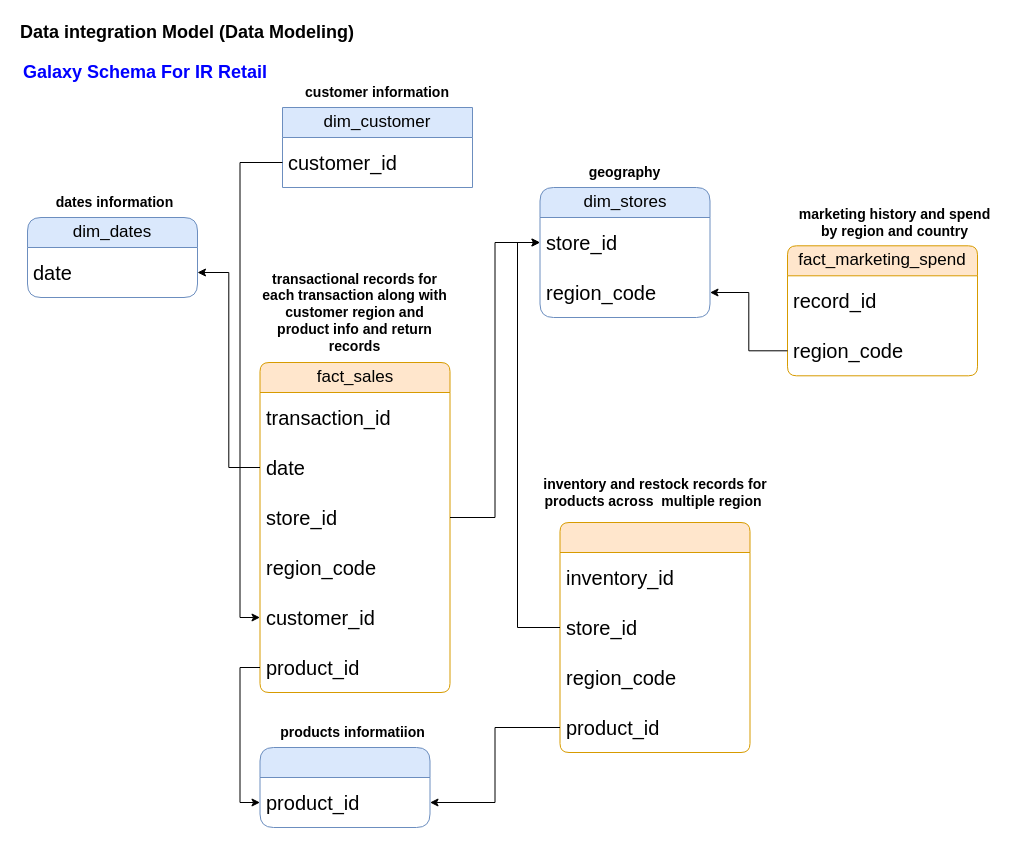
This 1009x845 diagram has some shape labels left out. The box of each missing label's shape, as (x1, y1, x2, y2) in pixels:
dim_products: (259, 746, 430, 828)
fact_inventory: (559, 522, 750, 752)
